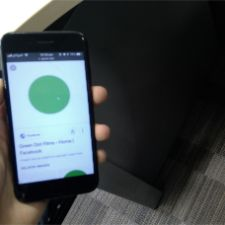focus: (25, 72, 73, 117)
